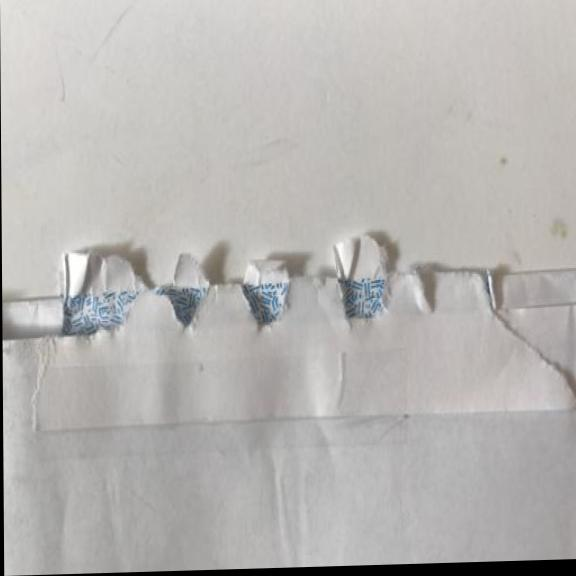Kertas: (2, 226, 576, 576)
